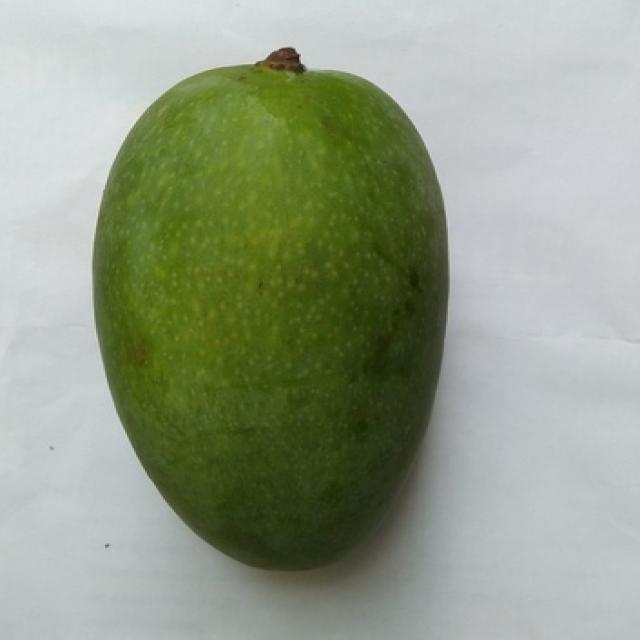Mango: (94, 65, 446, 567)
